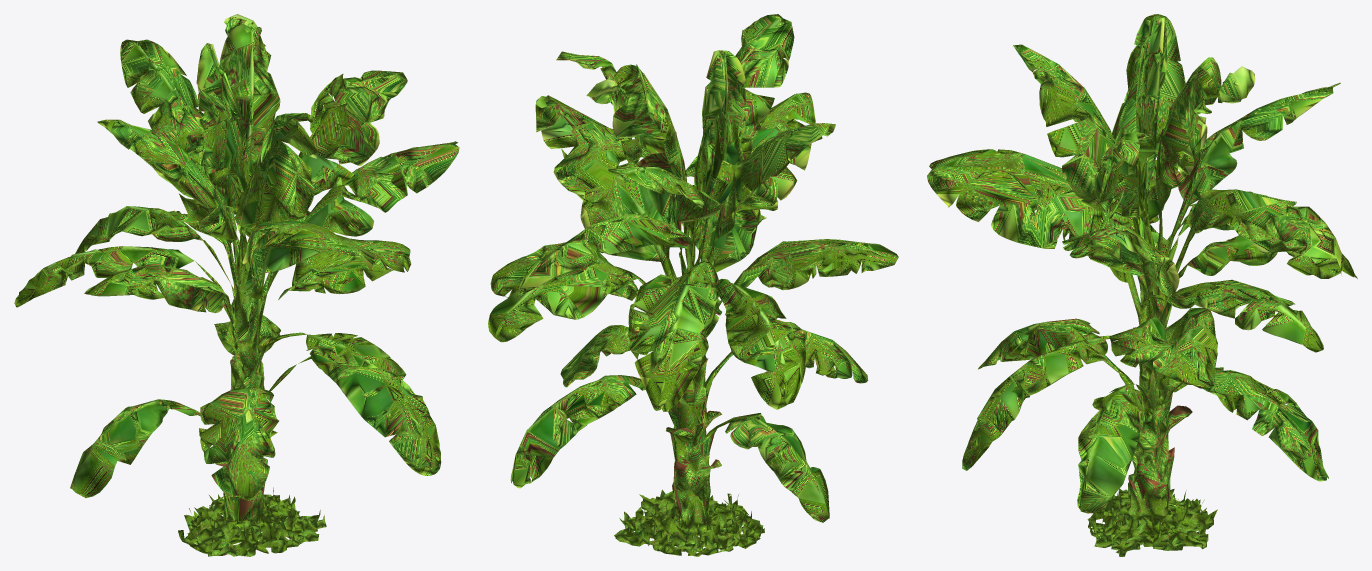
File: pisang-lite.glb
The picture shows the model from 3 angles, left to right: view 1: azimuth 30°, elevation 25°; view 2: azimuth 150°, elevation 25°; view 3: azimuth 270°, elevation 25°; orthographic projection.
Bounding box in the file's own units: 1.47 × 1.9 × 1.51.
1 material, 1 textured.
